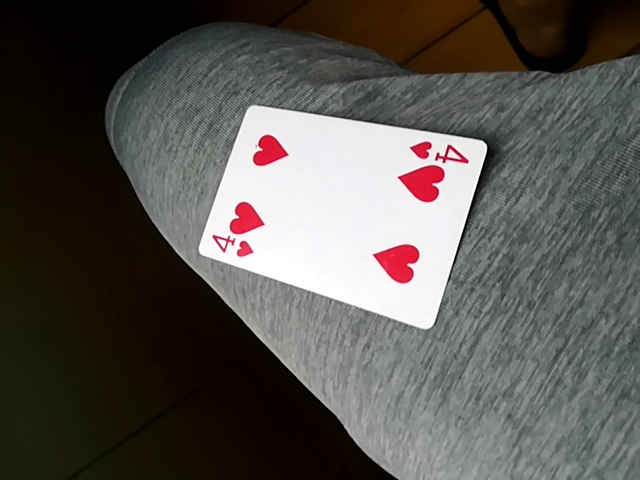hx 4: (198, 101, 488, 334)
